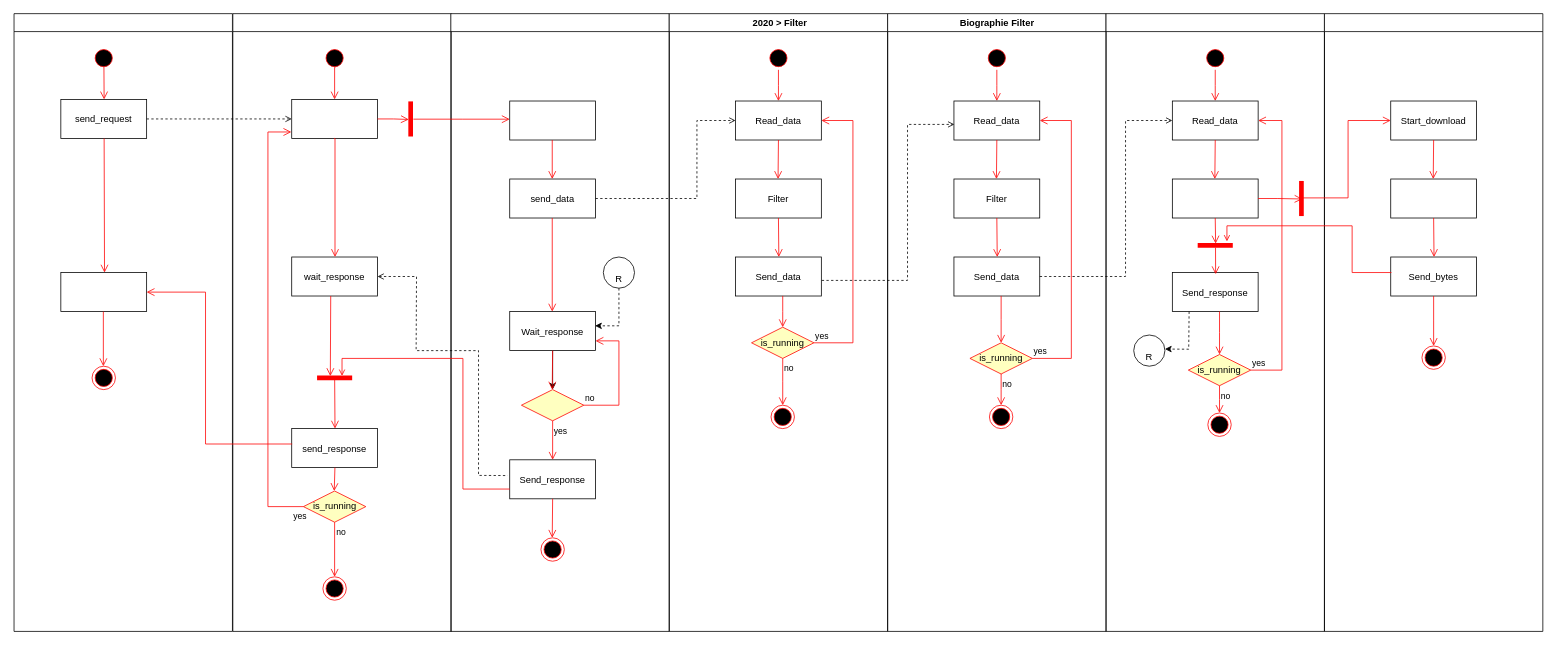
This 1556x645 diagram has some shape labels left out. The box of each missing label's shape, as (x1, y1, x2, y2) in pixels:
All queries responsed: (521, 389, 584, 421)
Client: (13, 13, 232, 631)
Finish_Download: (1390, 178, 1477, 218)
Gateway(main thread): (232, 13, 451, 631)
Gateway(worker thread): (450, 13, 669, 631)
handle_request: (509, 100, 596, 140)
Image Fetcher (download thread): (1324, 13, 1543, 631)
Image Fetcher (main thread): (1105, 13, 1324, 631)
Init_download: (1172, 178, 1258, 218)
receive_request: (60, 272, 147, 312)
receive_requests: (291, 99, 378, 138)
